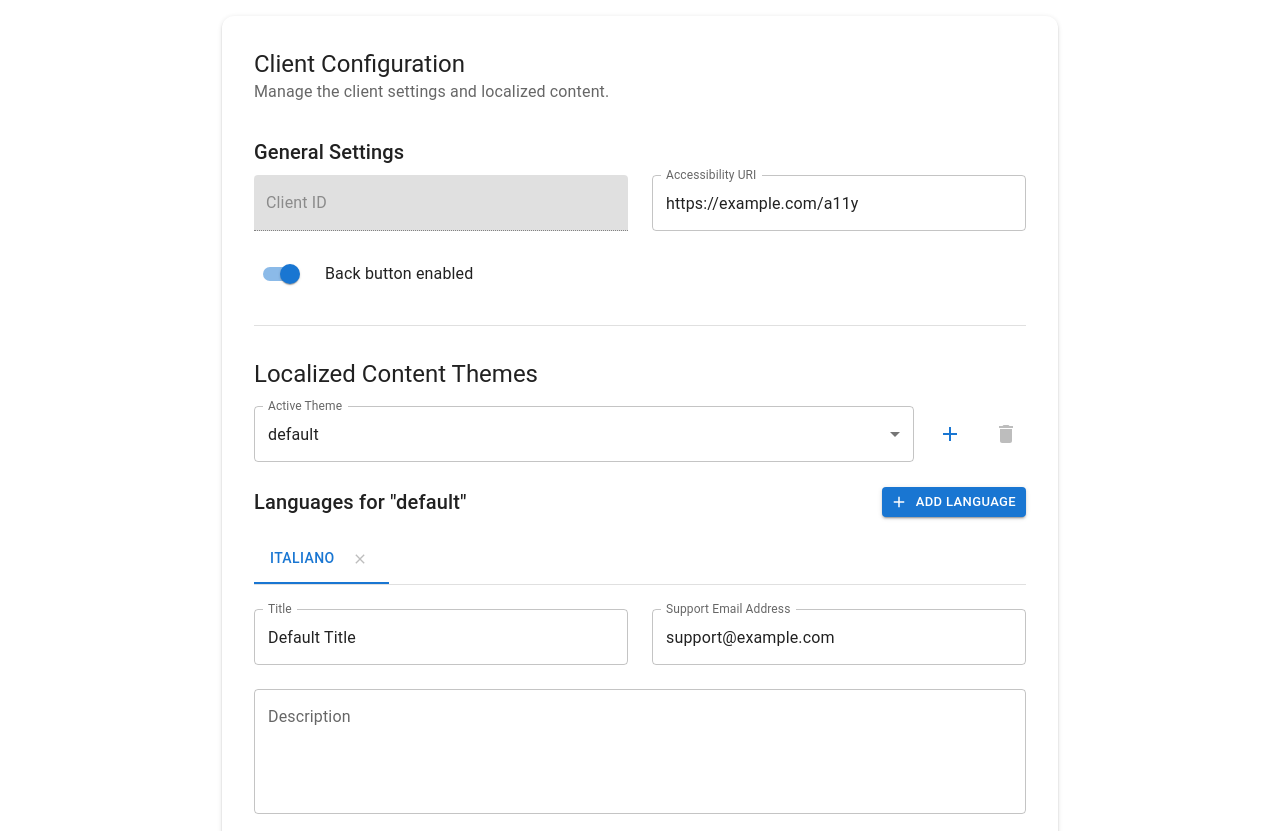
Test: Refactored ReservedAreaForm Component › should show and hide the unsaved changes reminder
This screenshot has width=1280, height=831.
Expected: the text "You have unsaved changes" is not shown
Click the button "Add Language" at (954,502), box x1=882 y1=487 x2=1026 y2=518
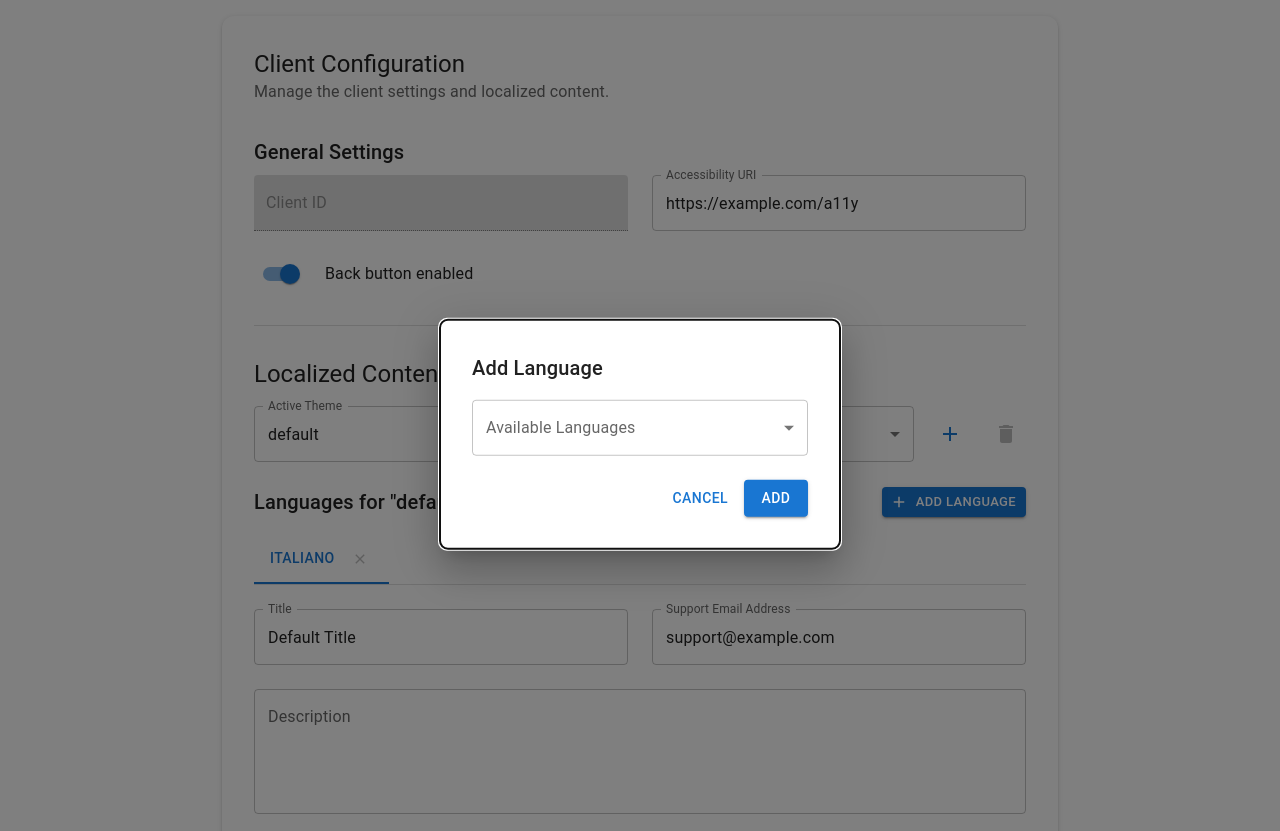
Click the dropdown at (640,428), box x1=472 y1=400 x2=808 y2=456
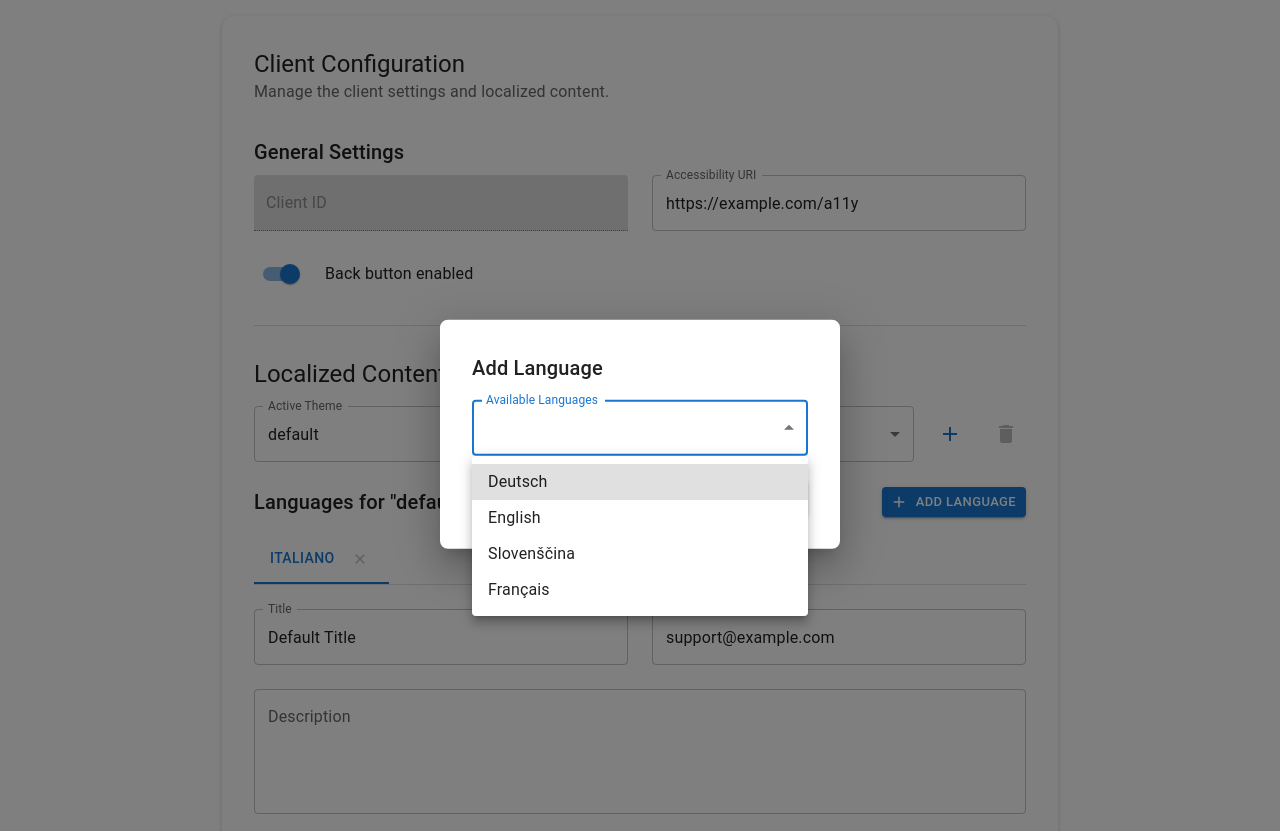
Click the option "Deutsch" at (518,482), box x1=472 y1=464 x2=808 y2=500
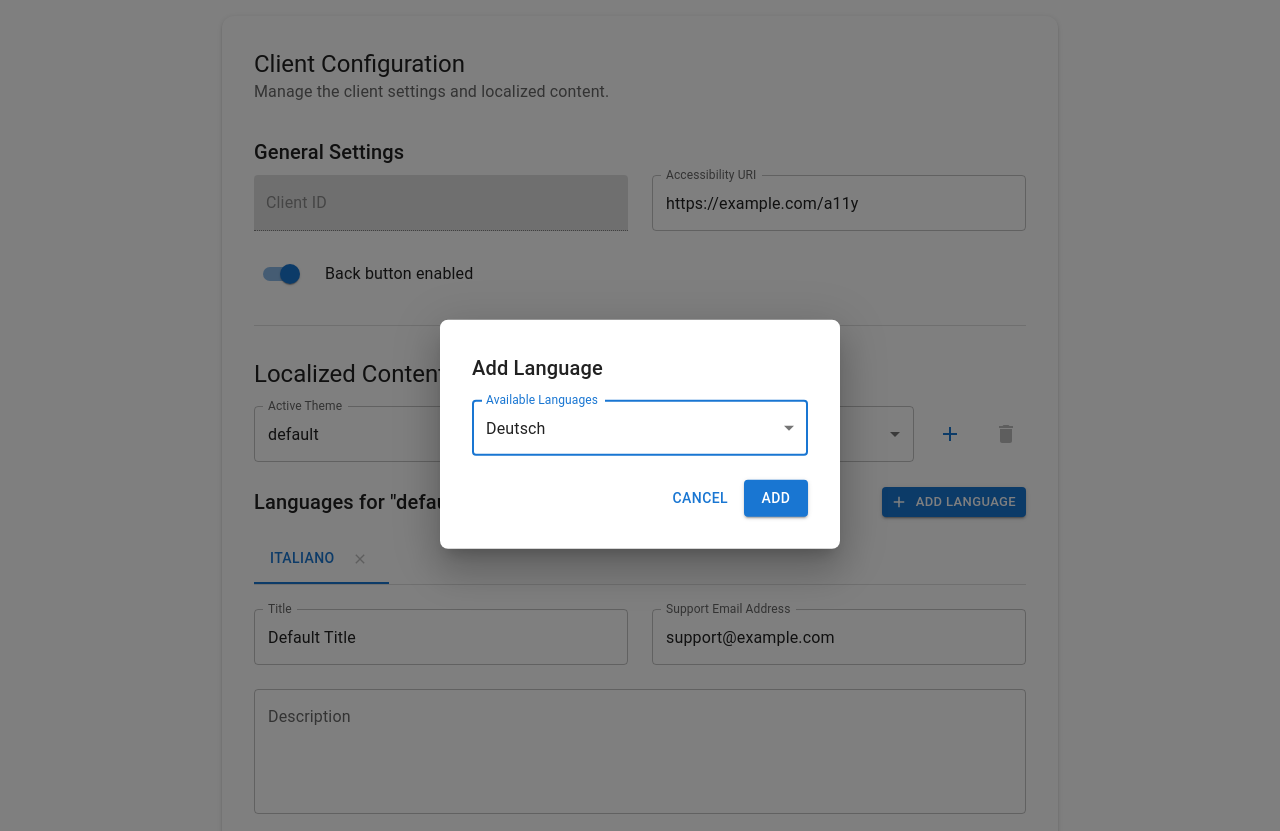
Click the button "Add" at (776,498), box x1=744 y1=480 x2=808 y2=516
(page scrolled)
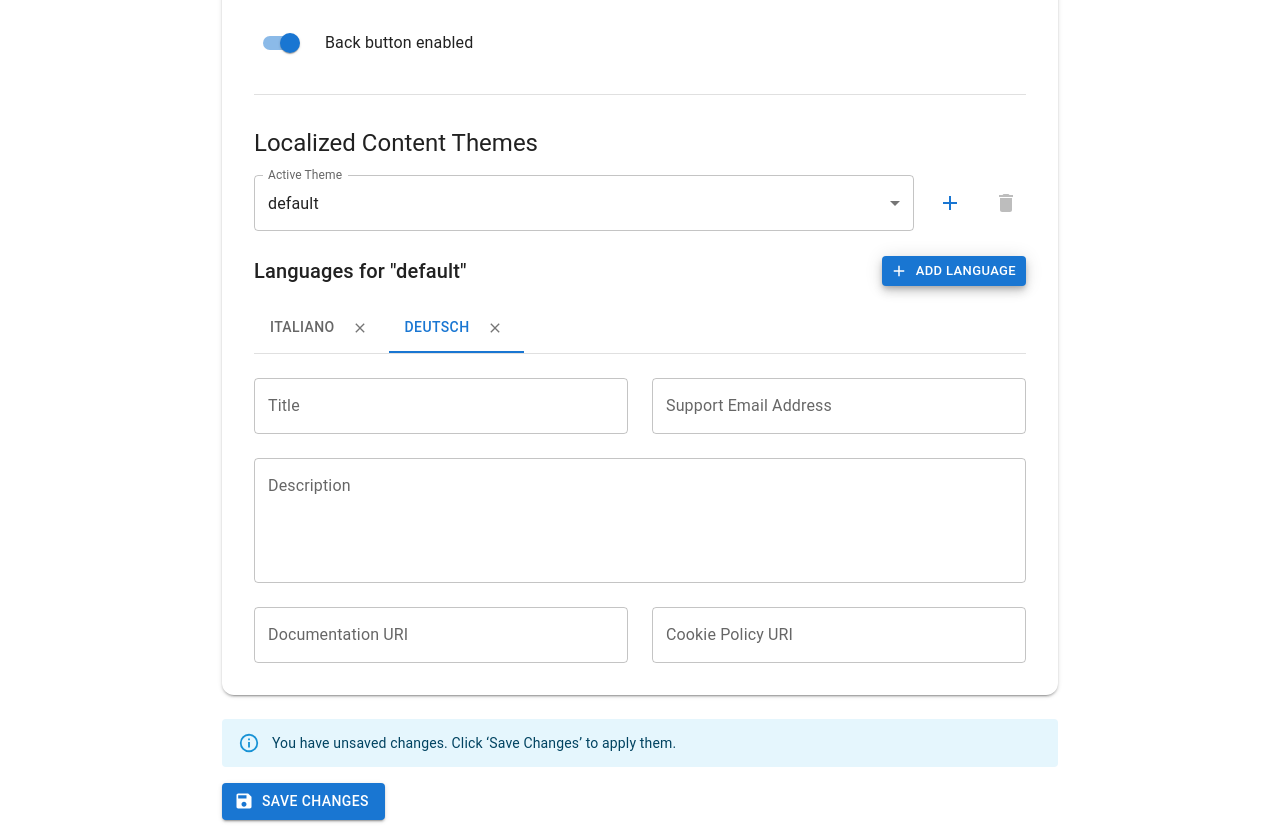
Expected: the text "You have unsaved changes" is shown, x1=272 y1=735 x2=676 y2=751
Expected: the button "Save Changes" is enabled
Click the button "Save Changes" at (303,801), box x1=222 y1=783 x2=385 y2=820
(page scrolled)
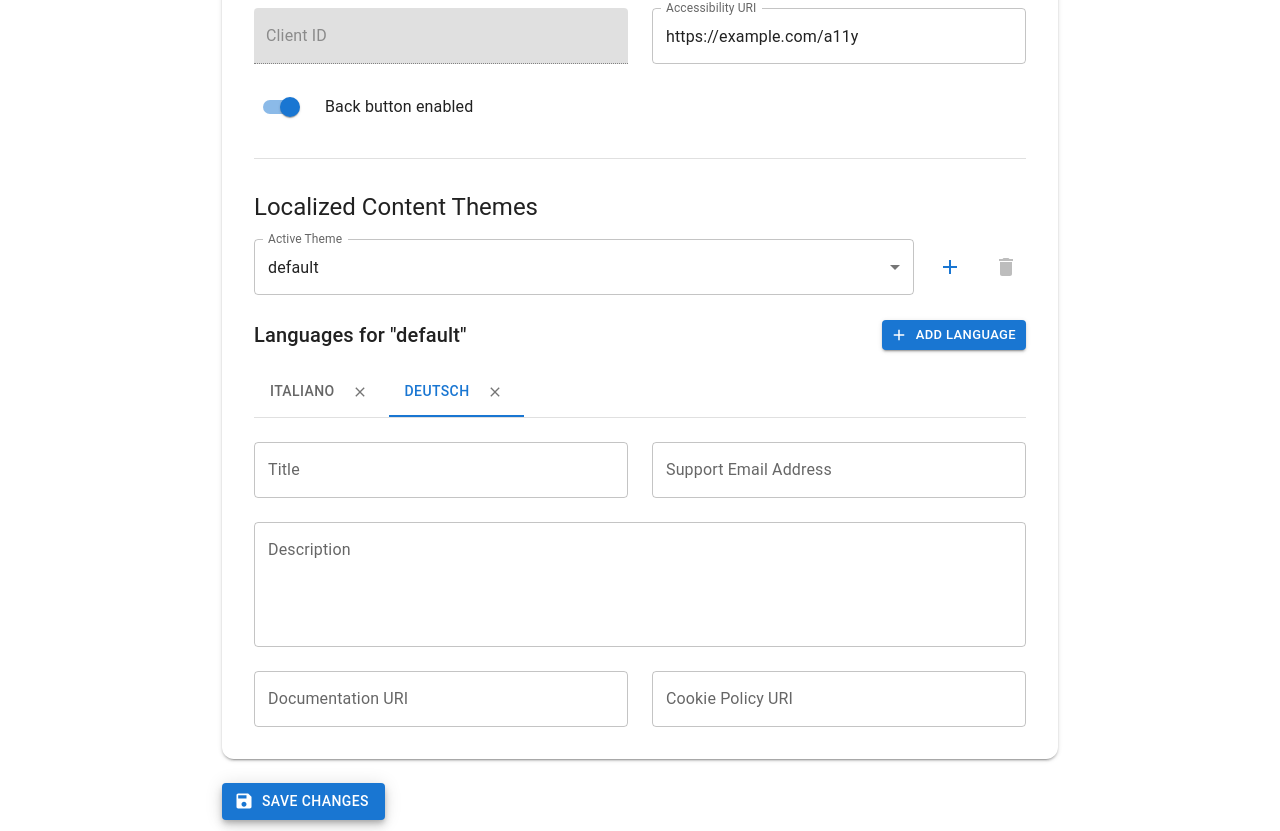
Expected: the text "You have unsaved changes" is gone
